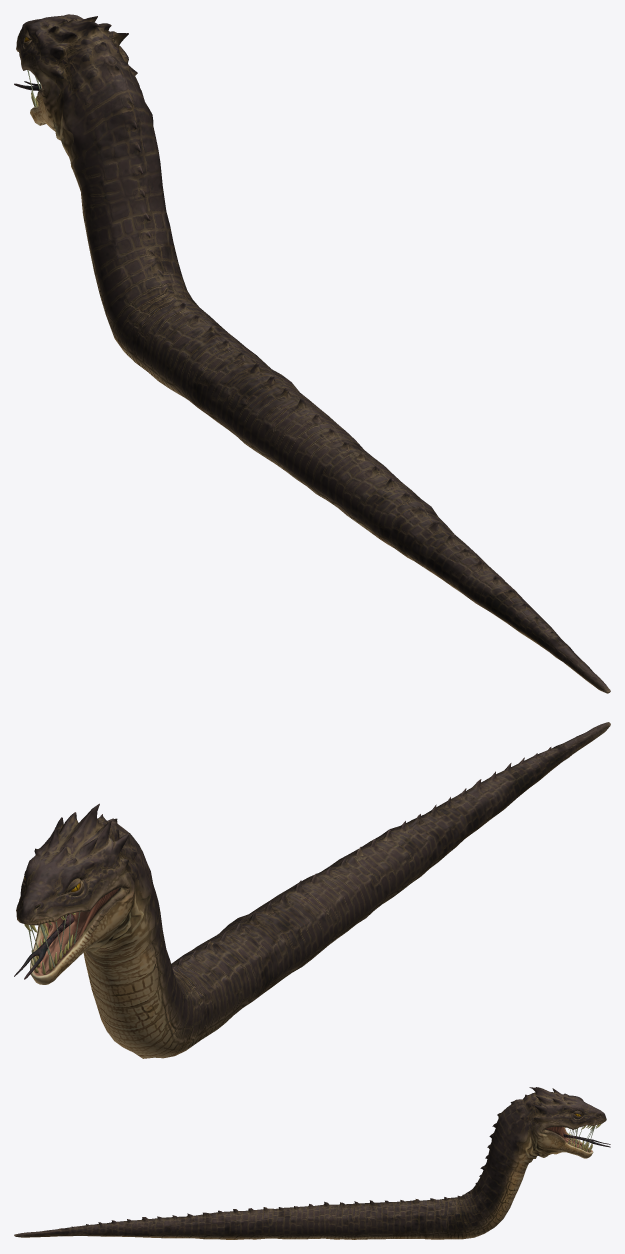
The model's file is basilisk.fbx.
3 renders of one model, top to bottom at view 1: azimuth 30°, elevation 25°; view 2: azimuth 150°, elevation 25°; view 3: azimuth 270°, elevation 25°, orthographic. The views are drawn at different scales.
Visible parts, largest first — view 1: target_basilisk_mesh_0; view 2: target_basilisk_mesh_0; view 3: target_basilisk_mesh_0.
Boxes of the visible parts, left/top/right/bottom form: target_basilisk_mesh_0: left=14, top=14, right=610, bottom=693; target_basilisk_mesh_0: left=14, top=722, right=610, bottom=1058; target_basilisk_mesh_0: left=14, top=1087, right=610, bottom=1239.
Size of the model in its own units: 0.9316 by 3 by 10.75.
Materials: 1 (1 with a texture image).
